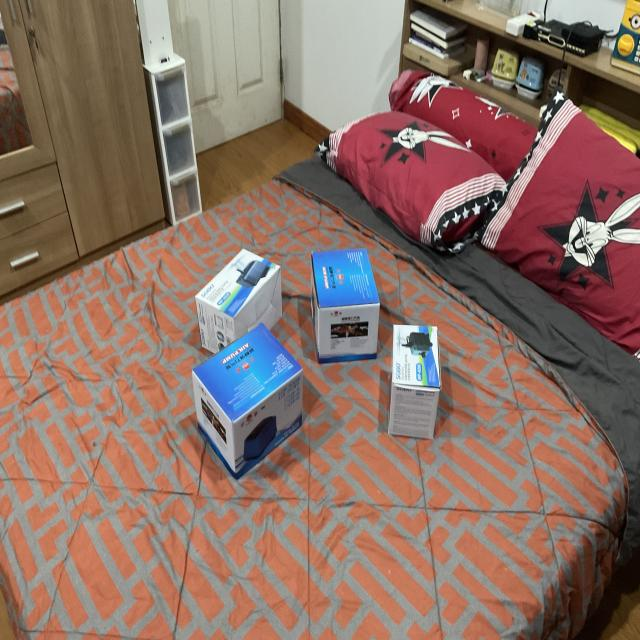SOBO_WP_4200: (188, 230, 292, 362), (386, 314, 452, 462)
YAMANO_LPP_20: (185, 332, 311, 490), (302, 236, 385, 370)
